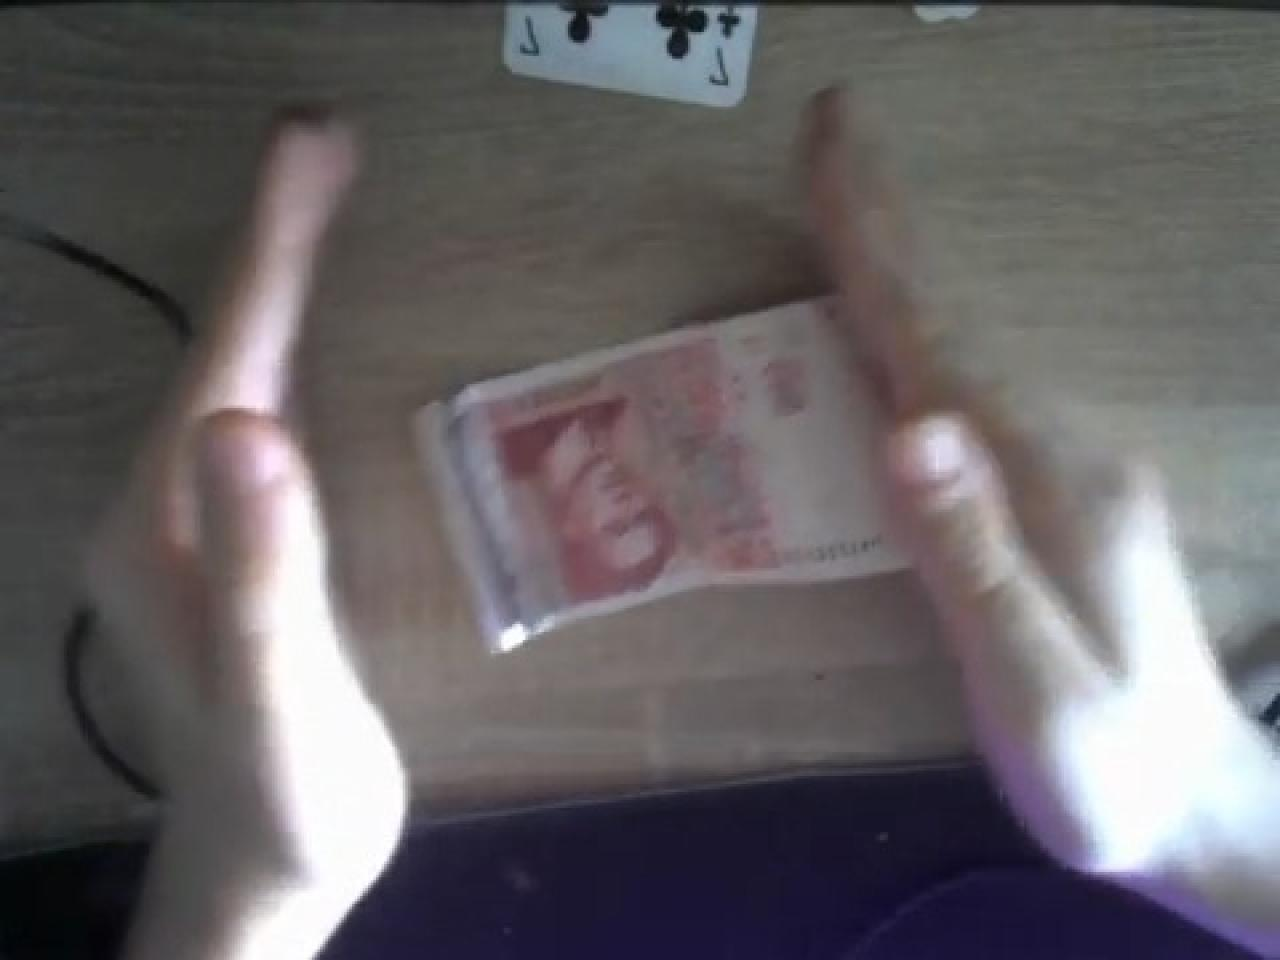5leva: (408, 293, 907, 650)
